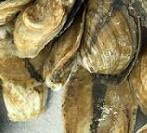3: (76, 0, 142, 84)
Oyster-Closed: (43, 10, 85, 91), (133, 122, 147, 133)
Oyster-Open: (62, 62, 138, 133), (11, 0, 74, 58), (0, 37, 51, 89), (4, 81, 48, 122), (129, 54, 147, 118), (0, 0, 32, 25)
